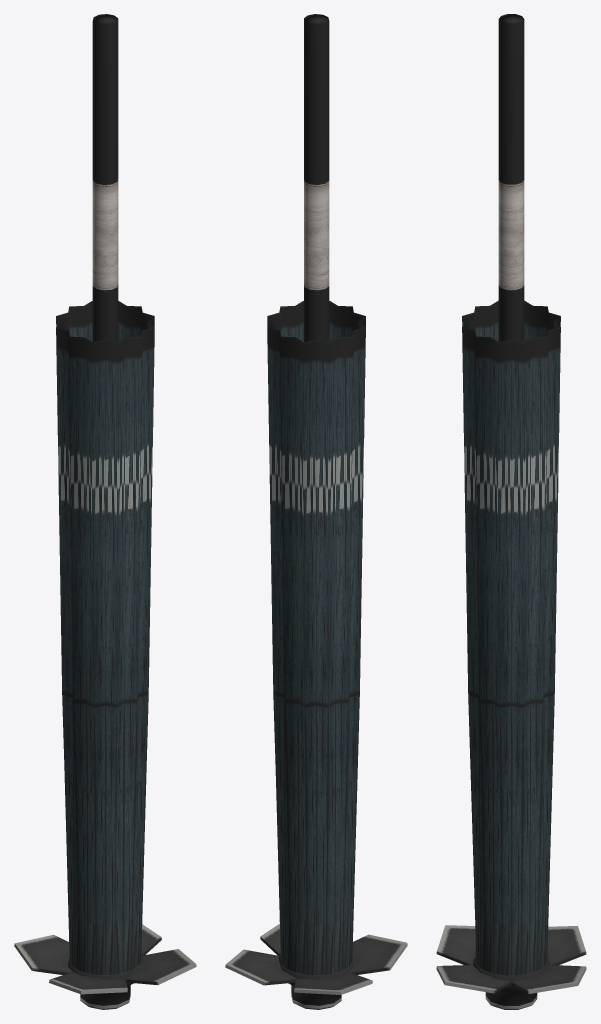
File: UmbrellaClose01.fbx
3 views of the same model, side by side, from view 1: azimuth 30°, elevation 25°; view 2: azimuth 150°, elevation 25°; view 3: azimuth 270°, elevation 25° (orthographic).
Visible parts, largest first — view 1: UmbrellaClose01; view 2: UmbrellaClose01; view 3: UmbrellaClose01.
Boxes of the visible parts, <box> form: UmbrellaClose01: <box>14,14,196,1009</box>; UmbrellaClose01: <box>225,14,407,1009</box>; UmbrellaClose01: <box>436,14,586,1009</box>.
Bounding box in the file's own units: 14.61 × 105 × 14.6.
Materials: 1 (1 with a texture image).
